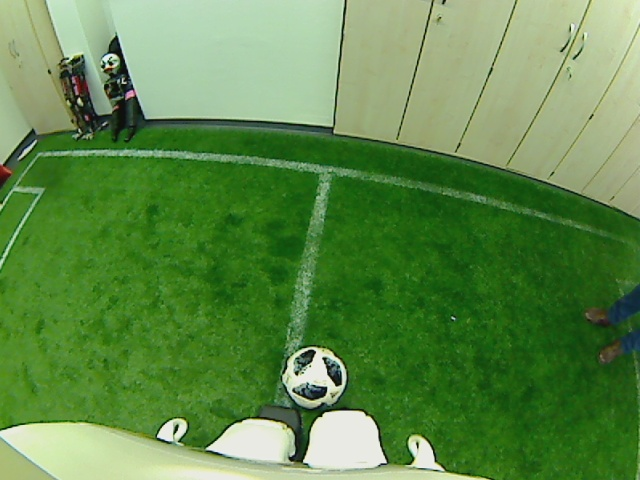ball: (278, 343, 348, 408)
